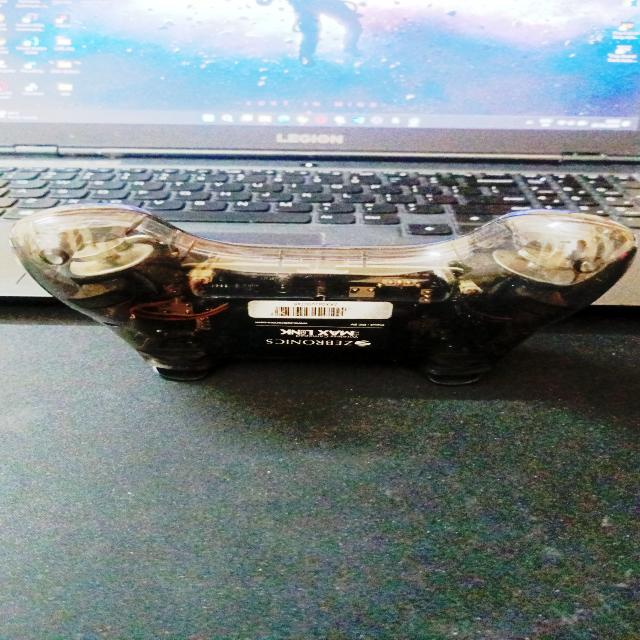gamepad: (9, 202, 636, 386)
